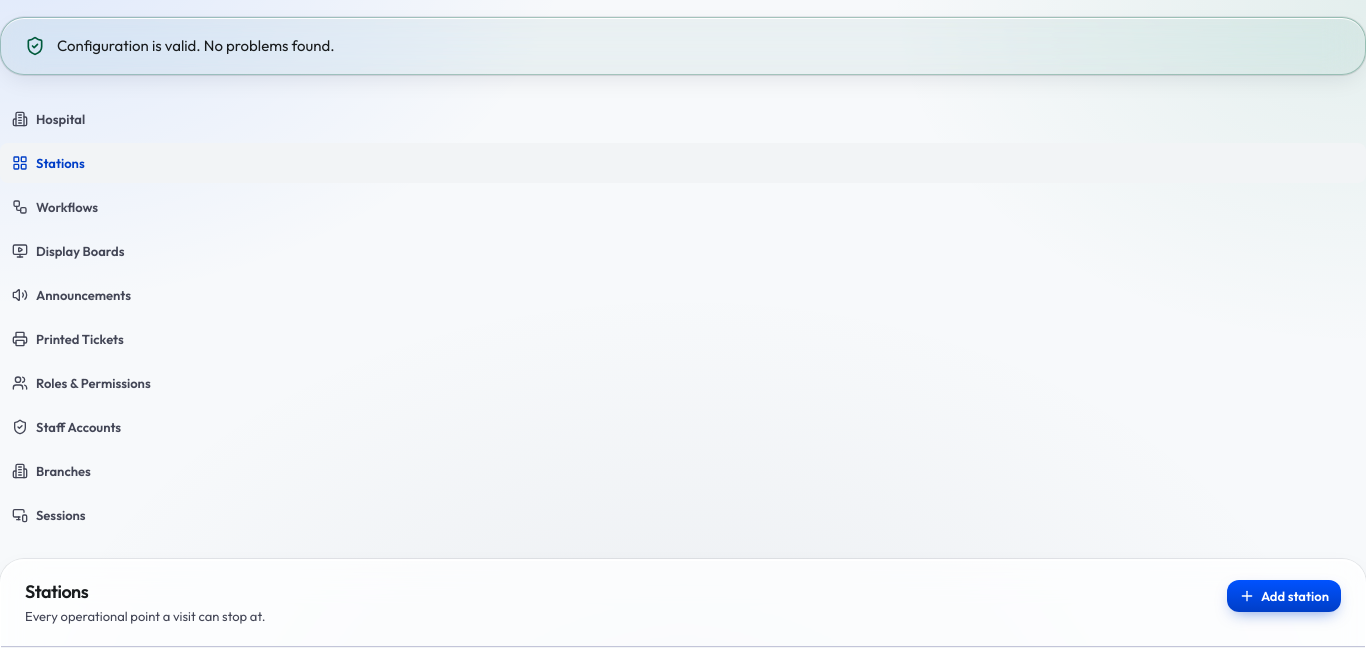
it: Administration Portal › previews exactly what a patient will hear and read
This screenshot has width=1366, height=648.
Click the button "Announcements" at {"x": 84, "y": 295}, box top-left (0, 275), bottom-right (1365, 315)
(page scrolled)
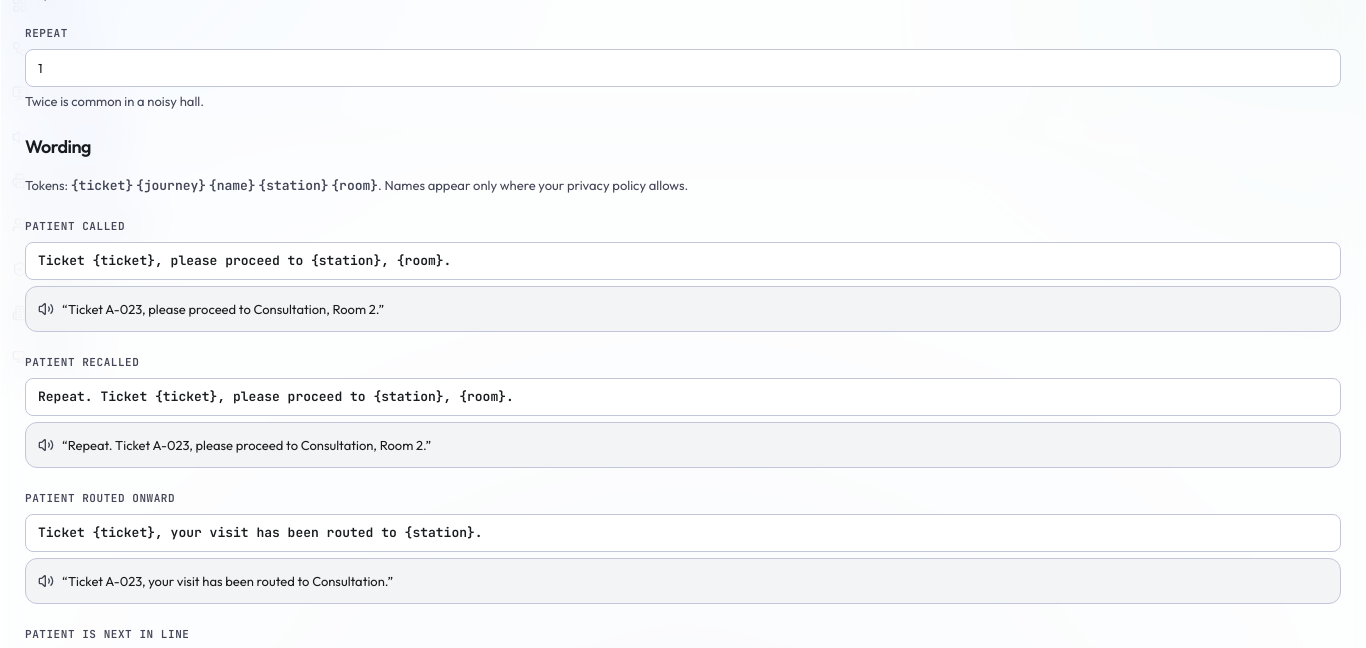
Expected: the element named "patient called preview" shows "Ticket A-023, please proceed to Consultation, Room 2.", top-left (68, 301), bottom-right (378, 317)
